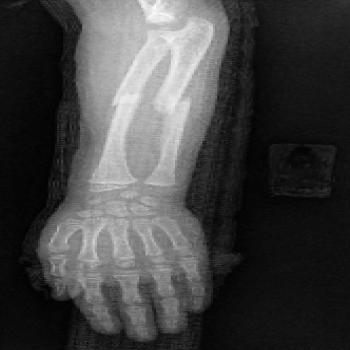Fracture: (151, 95, 205, 114), (105, 97, 142, 112)
